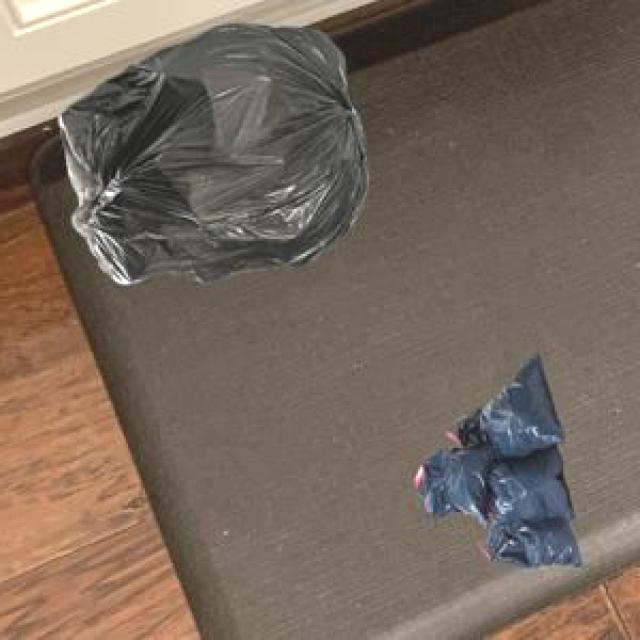Trashbag: (54, 23, 374, 288), (472, 370, 566, 460), (486, 448, 581, 526), (418, 437, 492, 520), (482, 515, 583, 569)
